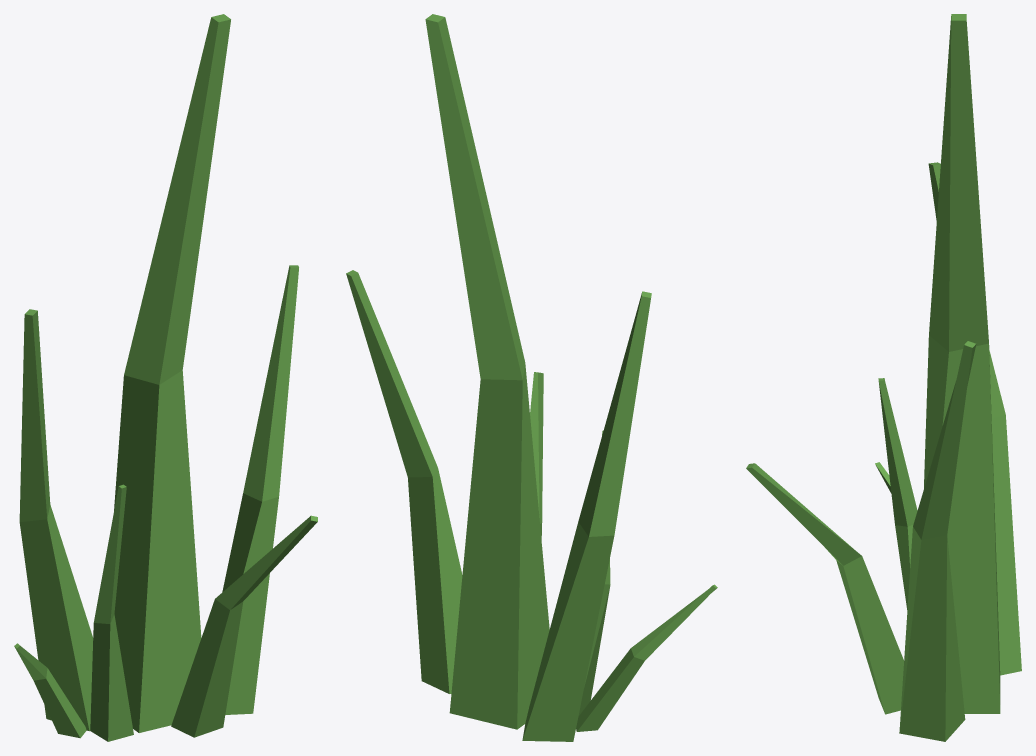
Rendered from GrassLarge.fbx.
3 views of the same model, side by side, from view 1: azimuth 30°, elevation 25°; view 2: azimuth 150°, elevation 25°; view 3: azimuth 270°, elevation 25° (orthographic). The views are drawn at different scales.
Visible parts, largest first — view 1: GrassLarge; view 2: GrassLarge; view 3: GrassLarge.
Boxes of the visible parts, x1,y1,x2,y2 form: GrassLarge: (14, 14, 317, 741); GrassLarge: (346, 14, 717, 741); GrassLarge: (746, 14, 1021, 741).
Size of the model in its own units: 71.15 by 140 by 49.05.
